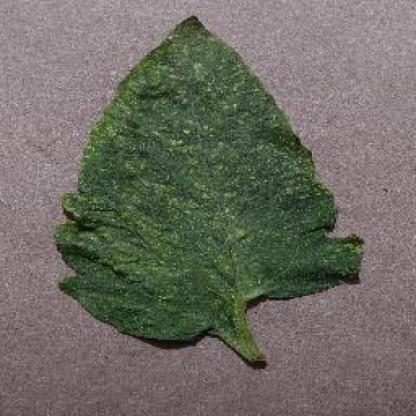Tomato_Spider_Mites: (57, 18, 360, 340)
